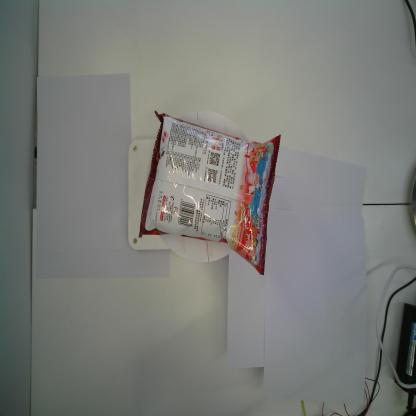Puffed Food: (138, 109, 281, 275)
